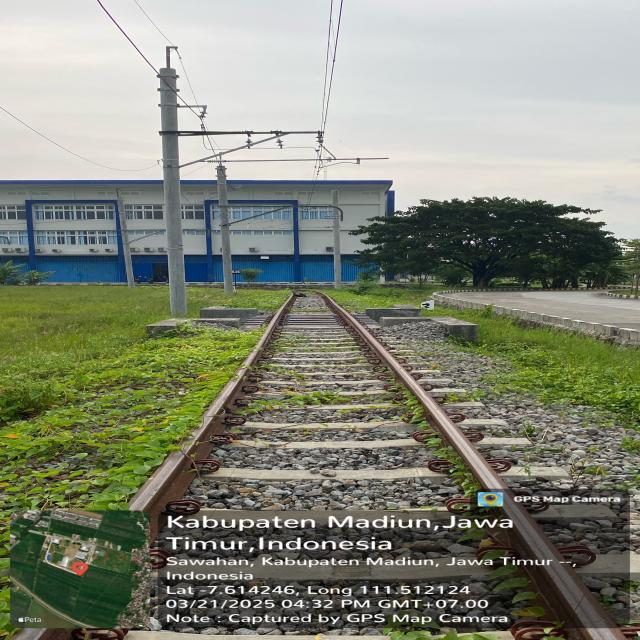rail-detection: (316, 293, 624, 640), (130, 294, 295, 541)
